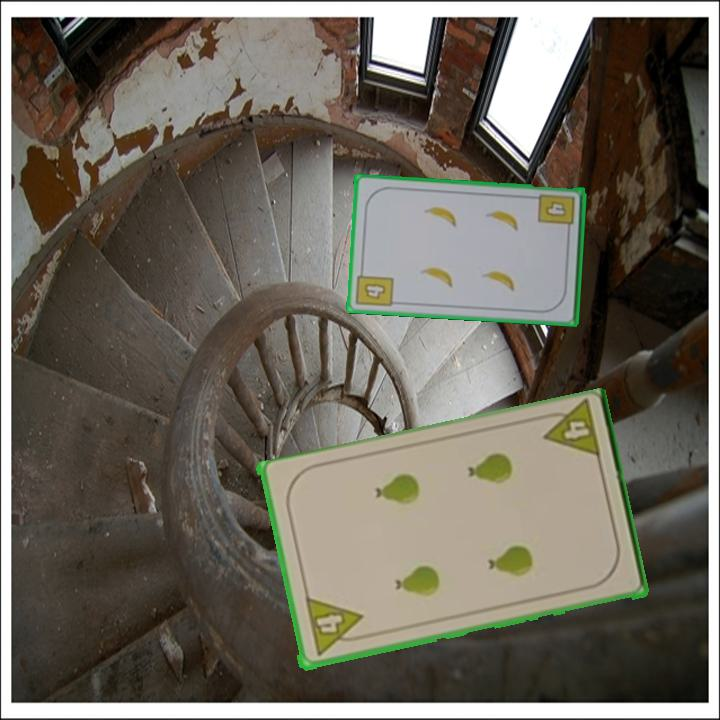4b: (353, 264, 396, 310), (535, 191, 578, 236)
4p: (535, 399, 604, 464), (302, 595, 368, 660)
